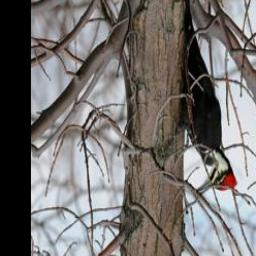Woodpecker: (177, 0, 238, 198)
